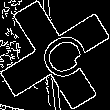O_SW: (22, 23, 88, 87)
